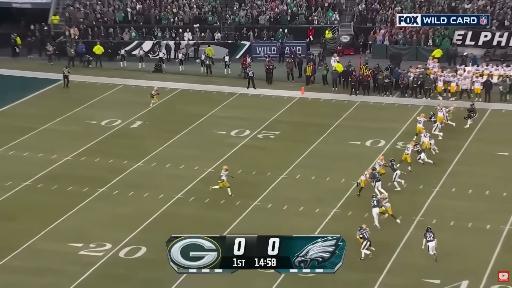Helmet: (380, 194, 387, 199), (426, 227, 432, 232), (451, 104, 457, 109), (372, 194, 378, 199), (409, 141, 414, 146), (420, 113, 425, 117), (223, 166, 228, 170), (390, 158, 395, 162), (359, 226, 363, 231), (372, 167, 377, 171), (415, 142, 419, 146), (379, 156, 383, 160), (430, 112, 434, 116), (470, 103, 474, 107), (154, 87, 158, 90), (439, 104, 443, 107), (424, 130, 428, 133)
Jersey: (358, 228, 370, 242), (424, 232, 435, 242), (417, 117, 426, 128), (404, 145, 413, 155), (389, 162, 398, 172), (467, 108, 477, 117), (372, 171, 380, 182), (371, 199, 380, 208), (361, 172, 370, 181), (375, 160, 383, 170), (438, 107, 446, 116), (421, 133, 429, 142), (415, 147, 423, 155), (430, 115, 437, 124), (150, 90, 159, 97), (221, 171, 227, 181), (381, 198, 388, 205), (429, 134, 433, 142), (447, 108, 455, 112)
Player: (211, 166, 232, 195), (357, 225, 374, 259), (380, 195, 400, 223), (387, 159, 404, 190), (423, 227, 437, 261), (397, 142, 414, 170), (415, 142, 434, 163), (372, 167, 386, 195), (357, 169, 371, 196), (371, 195, 381, 229), (421, 130, 435, 154), (414, 114, 426, 140), (464, 103, 477, 127), (430, 113, 442, 139), (375, 155, 387, 175), (445, 105, 456, 126), (149, 87, 159, 106), (437, 104, 445, 125), (429, 135, 438, 153)
